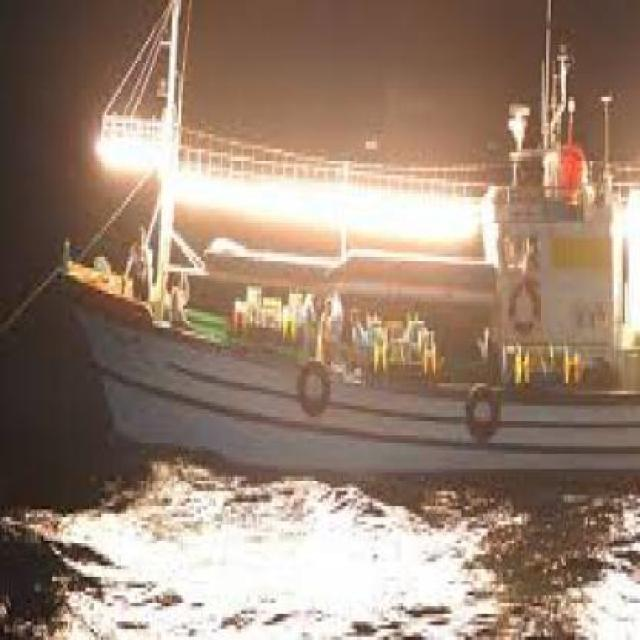fish-b: (54, 1, 640, 512)
